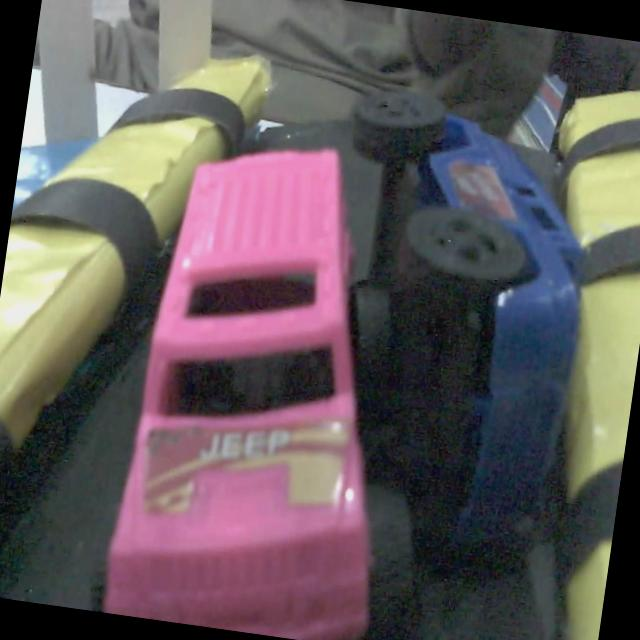Accident: (108, 0, 585, 639)
